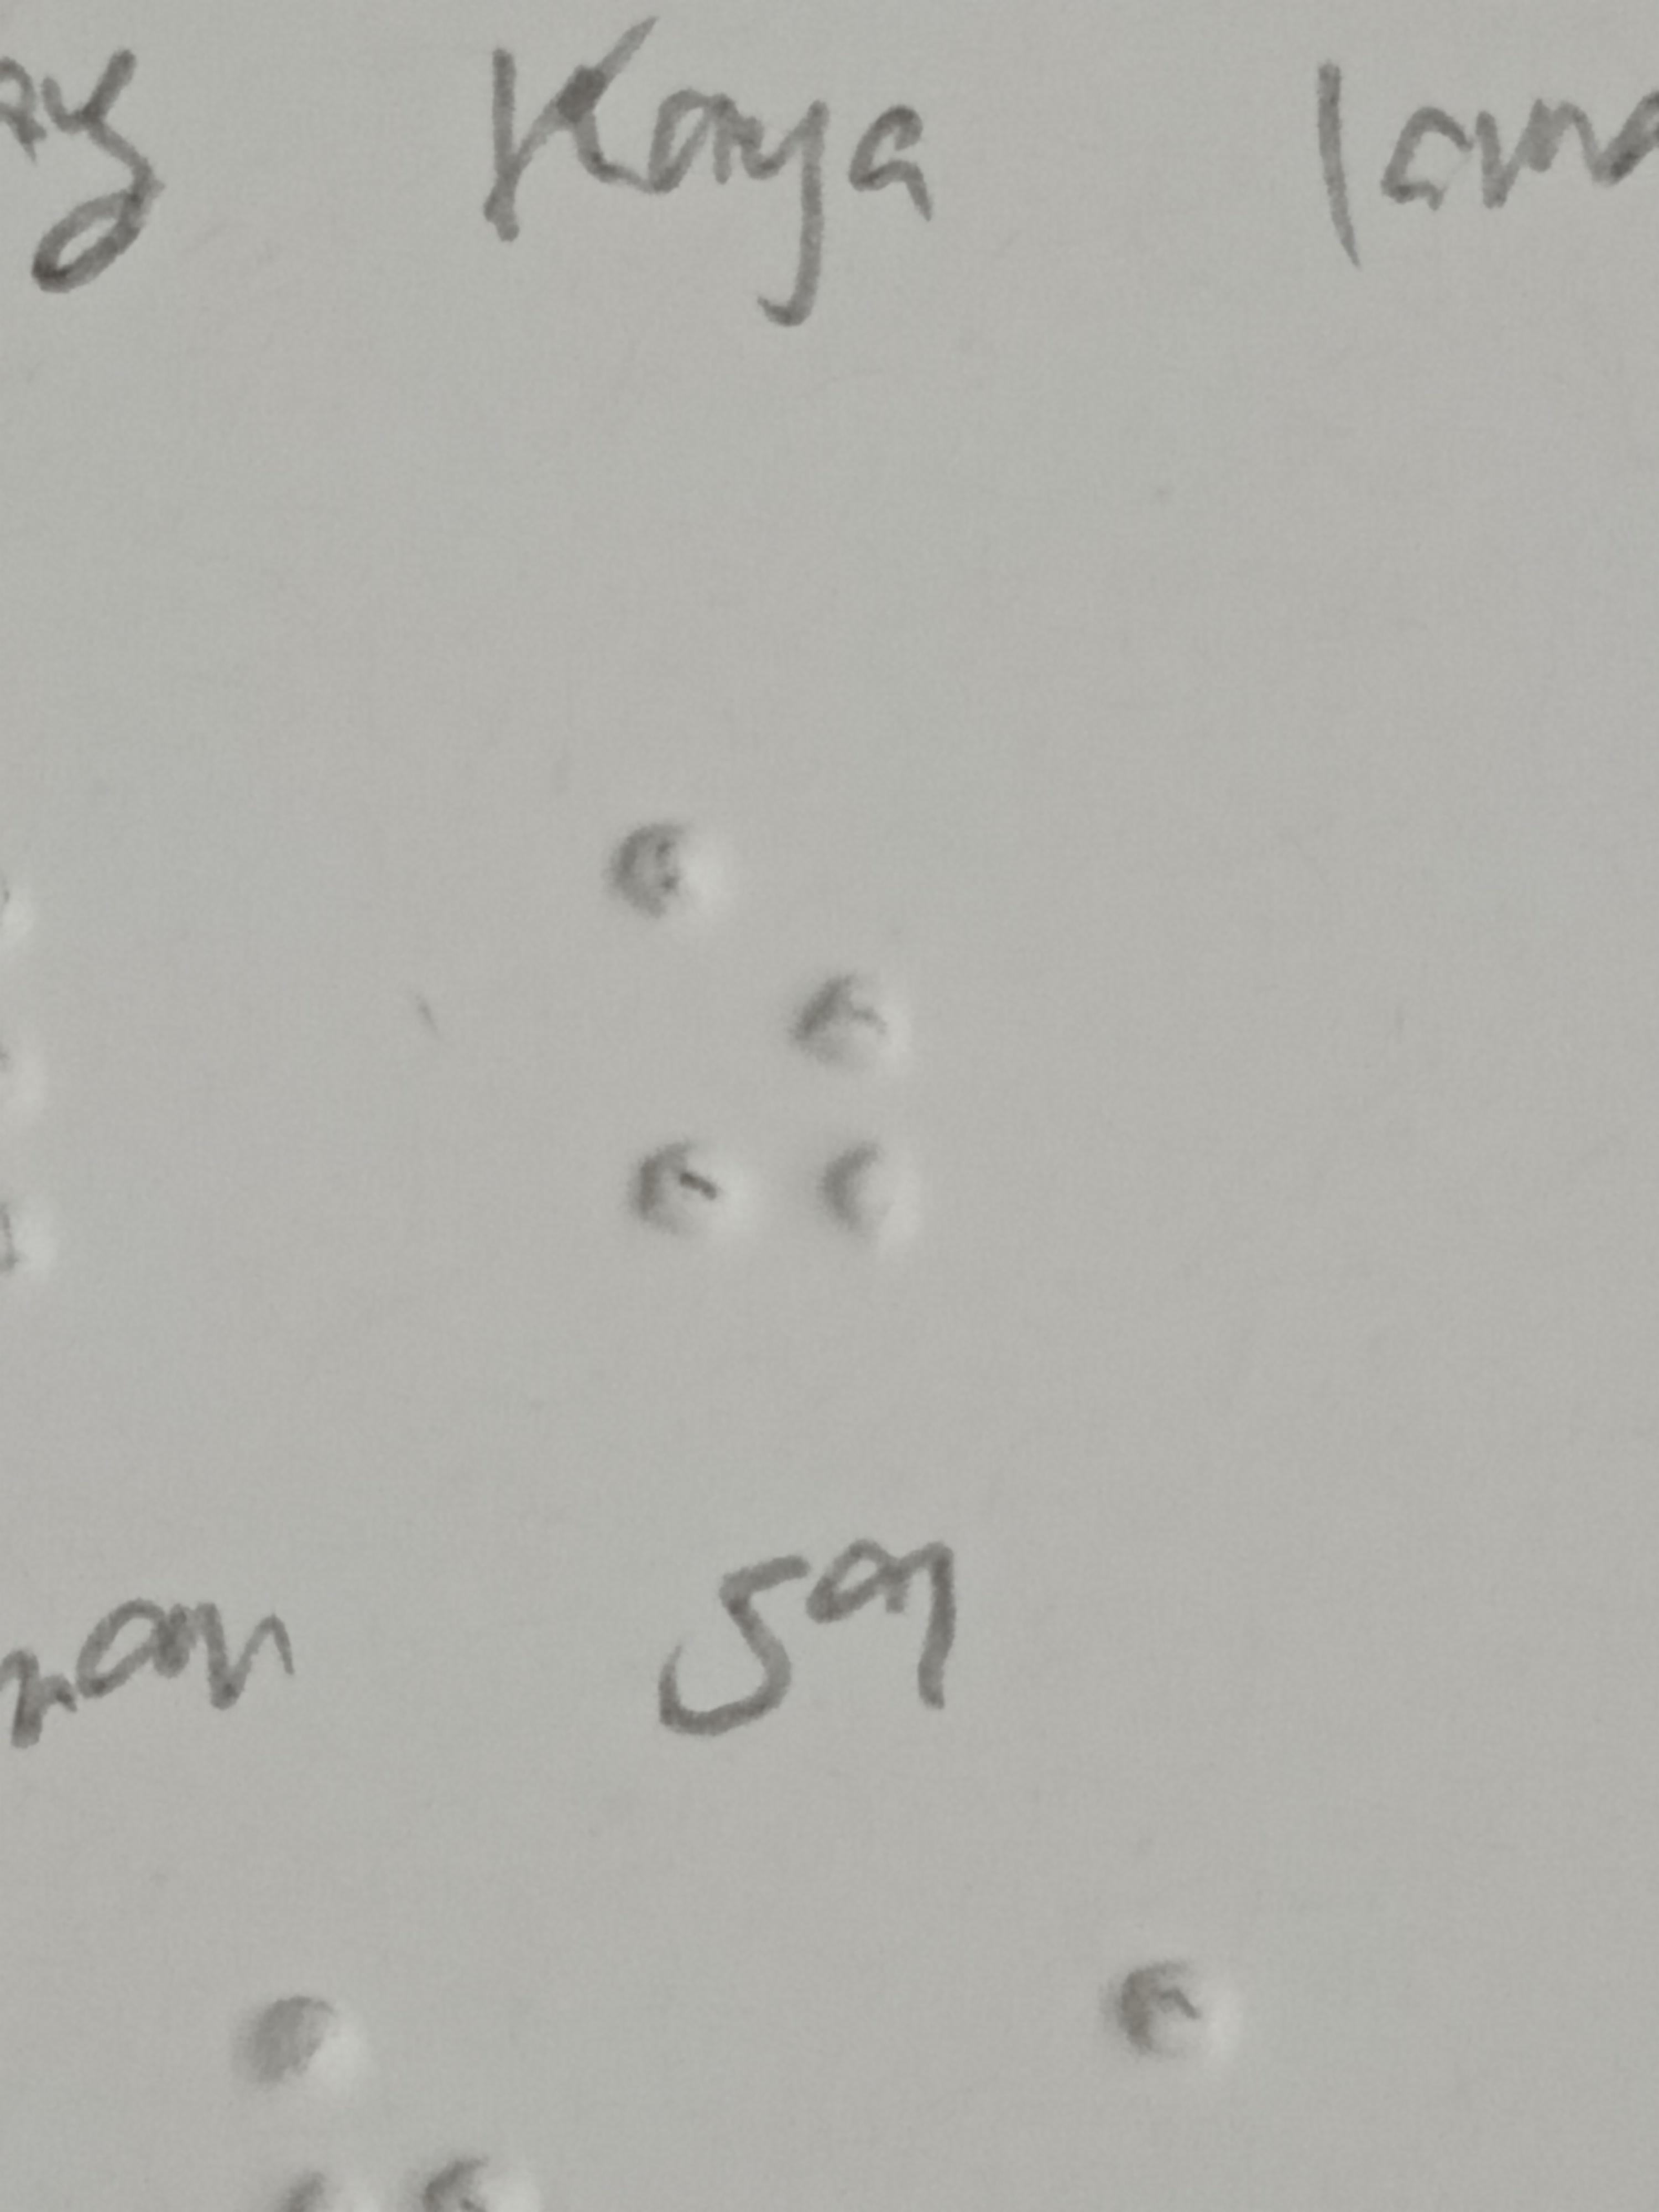one_cell_alphabet_sa: (610, 813, 917, 1247)
